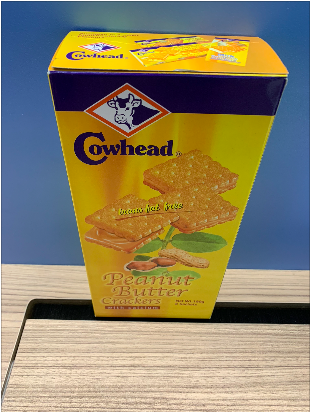Crackers_100-199g: (81, 77, 224, 313)
